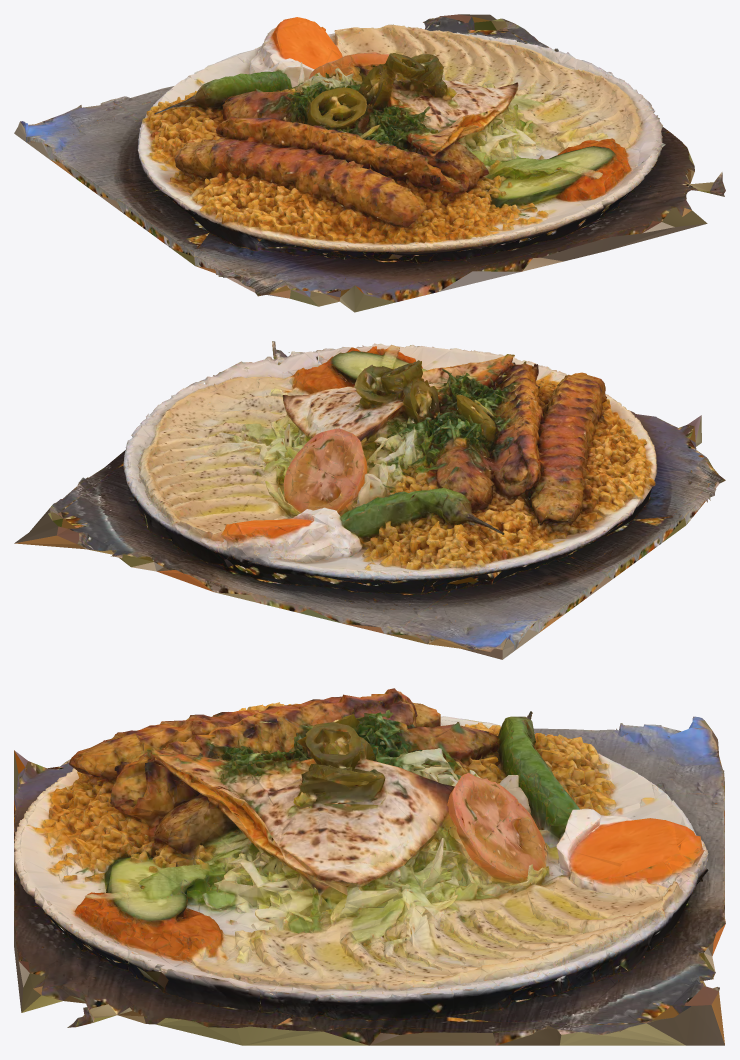
File: libanes.glb
The picture shows the model from 3 angles, top to bottom: view 1: azimuth 30°, elevation 25°; view 2: azimuth 150°, elevation 25°; view 3: azimuth 270°, elevation 25°; orthographic projection. The views are drawn at different scales.
Parts seen in each view (by area): view 1: model_tex_u1_v1_0; view 2: model_tex_u1_v1_0; view 3: model_tex_u1_v1_0.
Part boxes in pixels (x1,y1,x2,y2): model_tex_u1_v1_0: (14, 14, 725, 312); model_tex_u1_v1_0: (14, 341, 725, 659); model_tex_u1_v1_0: (14, 688, 725, 1045).
Size of the model in its own units: 0.336 by 0.0848 by 0.3292.
Materials: 1 (1 with a texture image).
